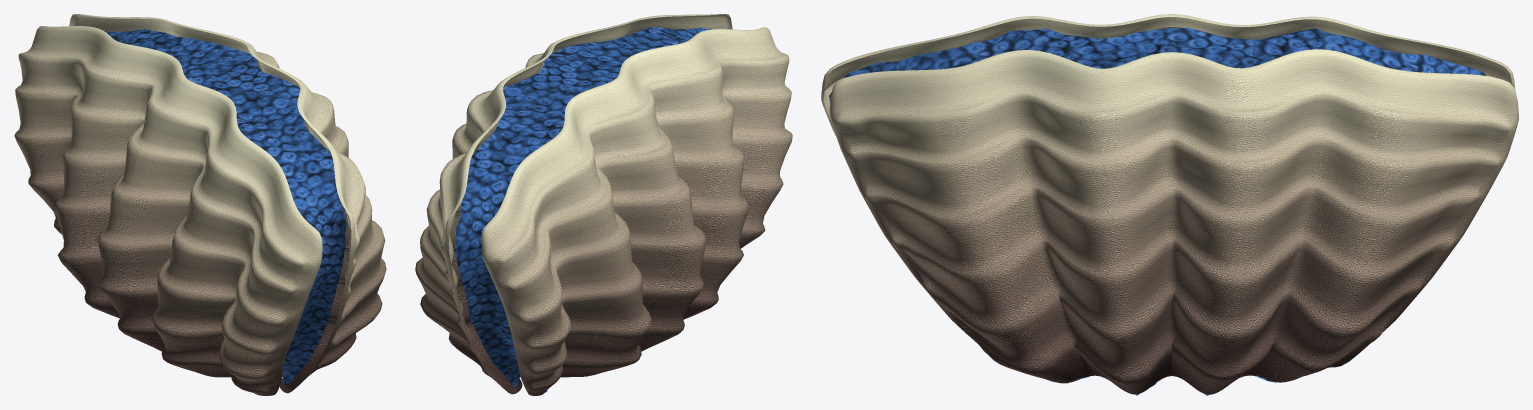
Rendered from blue_lowpoly_coral.glb.
3 views of the same model, side by side, from view 1: azimuth 30°, elevation 25°; view 2: azimuth 150°, elevation 25°; view 3: azimuth 270°, elevation 25° (orthographic). The views are drawn at different scales.
Visible parts, largest first — view 1: Plane.003, Plane.001; view 2: Plane.003, Plane.001; view 3: Plane.003, Plane.001.
Part boxes in pixels (x1,y1,x2,y2): Plane.003: (14, 14, 386, 395); Plane.001: (105, 29, 347, 385); Plane.003: (415, 14, 792, 395); Plane.001: (454, 27, 711, 392); Plane.003: (821, 14, 1518, 394); Plane.001: (829, 27, 1485, 395).
Bounding box in the file's own units: 0.992 × 1.1 × 2.05.
Materials: 2 (2 with a texture image).
